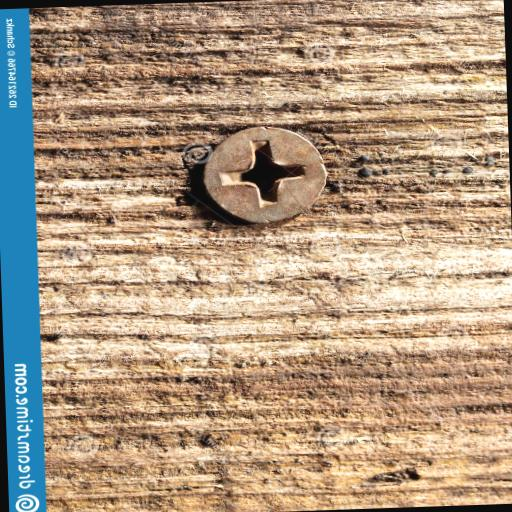Phillips: (198, 122, 326, 230)
